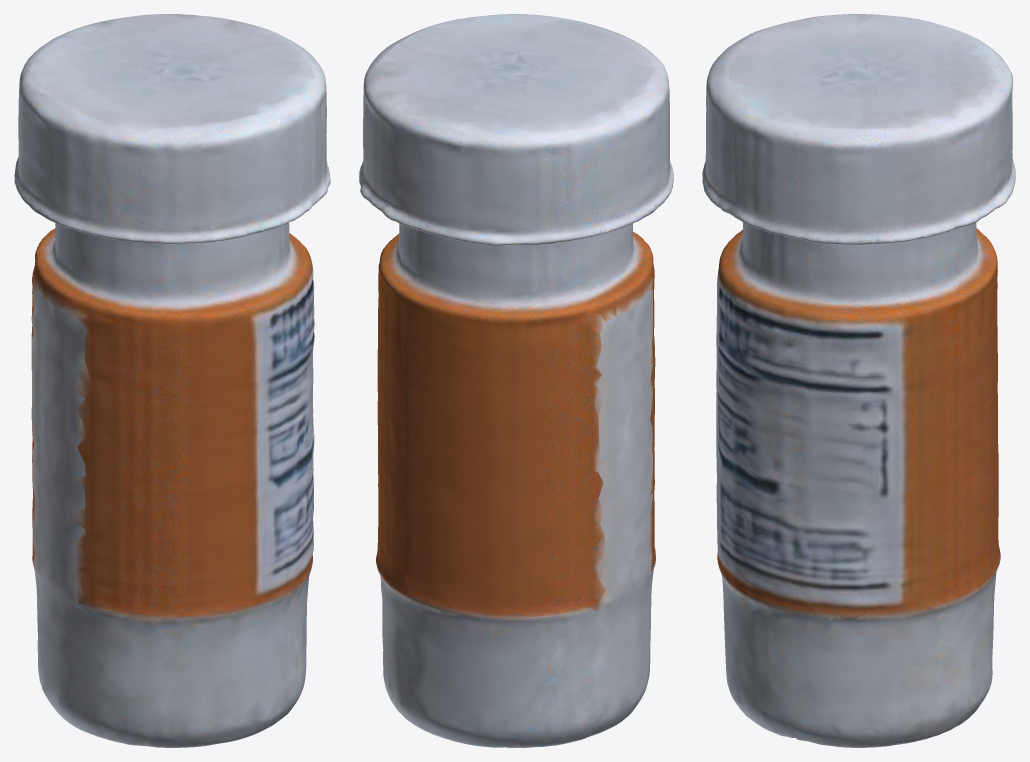
The model's file is pillbox.glb.
The picture shows the model from 3 angles, left to right: view 1: azimuth 30°, elevation 25°; view 2: azimuth 150°, elevation 25°; view 3: azimuth 270°, elevation 25°; orthographic projection.
Visible parts, largest first — view 1: PillBox; view 2: PillBox; view 3: PillBox.
Boxes of the visible parts, x1,y1,x2,y2 form: PillBox: (14,14,330,747); PillBox: (359,14,673,747); PillBox: (702,14,1015,747).
Bounding box in the file's own units: 0.4567 × 0.9999 × 0.4523.
Materials: 1 (1 with a texture image).
